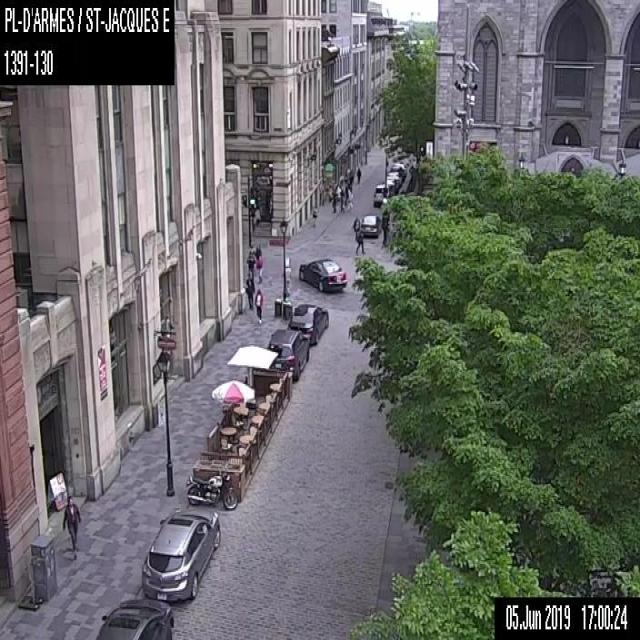pedestrian: (62, 493, 80, 558), (352, 216, 363, 253), (244, 271, 254, 309), (254, 288, 263, 322), (254, 251, 263, 283), (246, 249, 254, 277), (328, 190, 336, 212), (346, 188, 352, 210), (311, 205, 317, 226), (339, 188, 344, 212), (355, 165, 361, 182)
vehicle: (141, 508, 220, 600), (94, 597, 172, 639), (266, 329, 309, 380), (185, 468, 237, 508), (286, 303, 328, 345), (298, 258, 348, 290), (360, 212, 381, 238), (372, 183, 390, 206), (386, 170, 402, 187)
